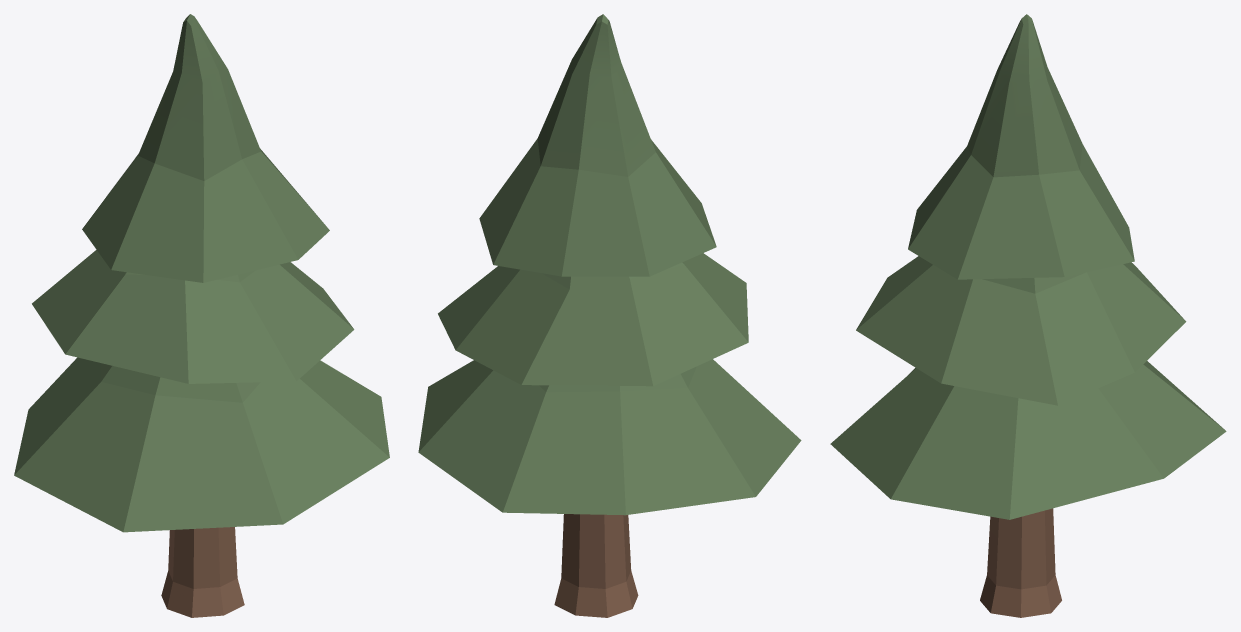
The model's file is Pine_Trees_Pack_Pine_02.fbx.
3 renders of one model, left to right at view 1: azimuth 30°, elevation 25°; view 2: azimuth 150°, elevation 25°; view 3: azimuth 270°, elevation 25°, orthographic.
Visible parts, largest first — view 1: Pine_Trees_Pack_Pine_02; view 2: Pine_Trees_Pack_Pine_02; view 3: Pine_Trees_Pack_Pine_02.
Part boxes in pixels (<box>): Pine_Trees_Pack_Pine_02: <box>14,14,389,617</box>; Pine_Trees_Pack_Pine_02: <box>418,14,801,617</box>; Pine_Trees_Pack_Pine_02: <box>830,14,1226,617</box>.
Size of the model in its own units: 152 by 245 by 151.
